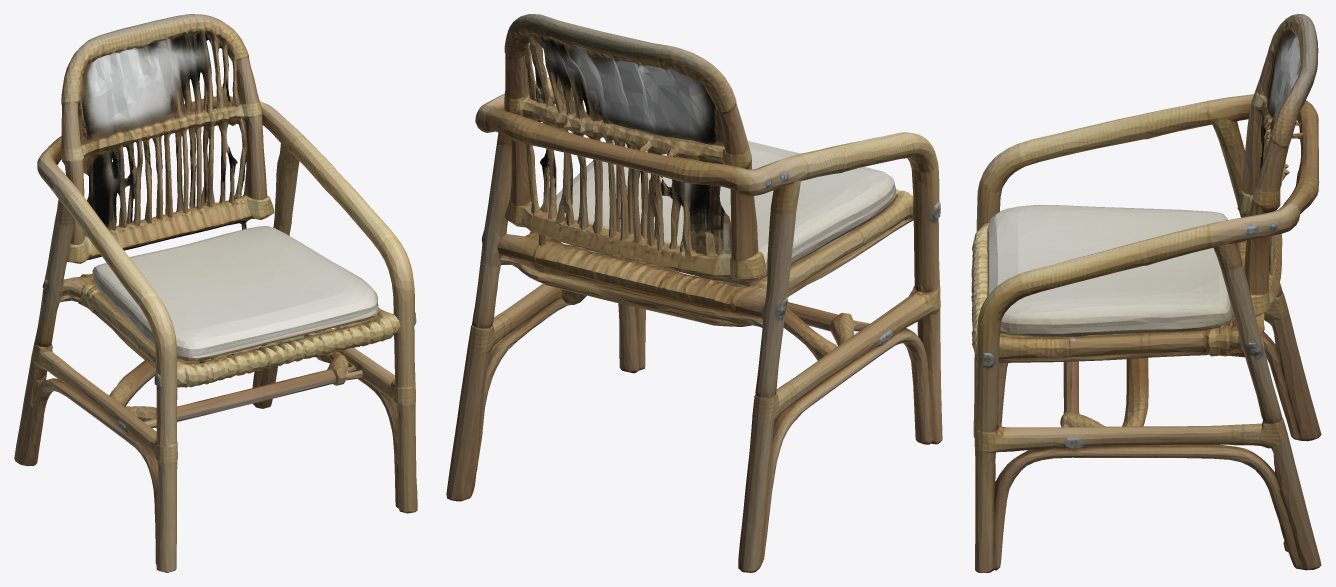
Rendered from 34257bd4-4d32-48b2-9cef-6cf775c0ae6c.glb.
3 views of the same model, side by side, from view 1: azimuth 30°, elevation 25°; view 2: azimuth 150°, elevation 25°; view 3: azimuth 270°, elevation 25° (orthographic). The views are drawn at different scales.
Visible parts, largest first — view 1: geometry_0; view 2: geometry_0; view 3: geometry_0.
Part boxes in pixels (bbox=[...]): geometry_0: bbox=[14, 14, 417, 572]; geometry_0: bbox=[446, 14, 942, 572]; geometry_0: bbox=[971, 14, 1321, 572].
Bounding box in the file's own units: 0.6627 × 1 × 0.6933.
Materials: 1 (1 with a texture image).
